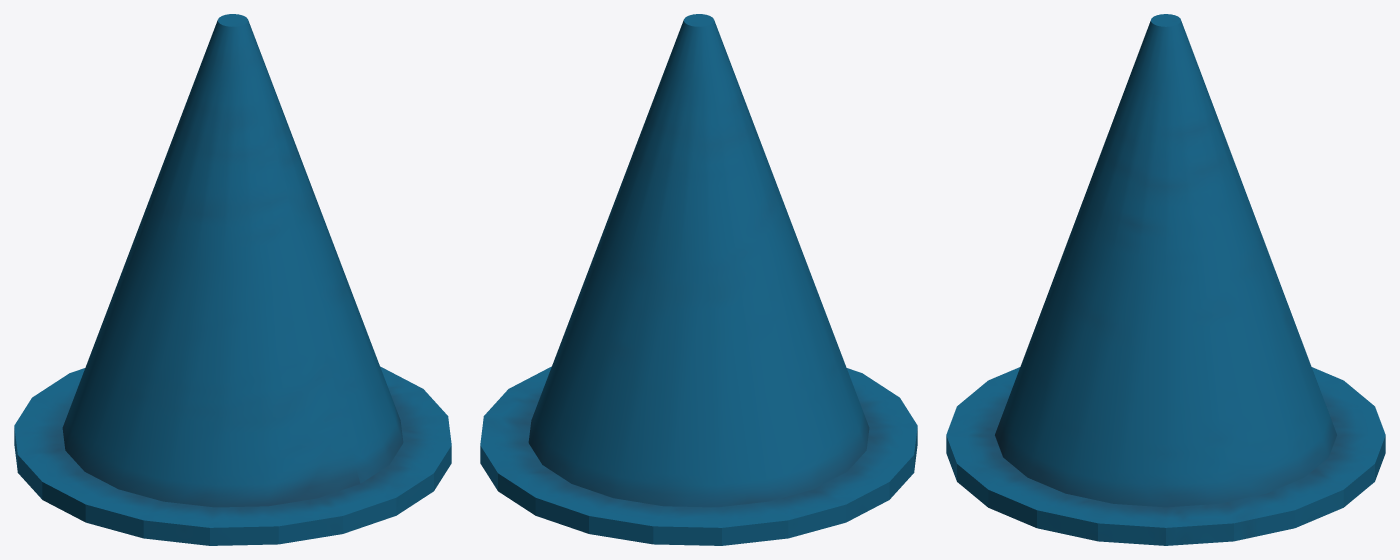
The model's file is traffic_cone.glb.
3 renders of one model, left to right at view 1: azimuth 30°, elevation 25°; view 2: azimuth 150°, elevation 25°; view 3: azimuth 270°, elevation 25°, orthographic.
Visible parts, largest first — view 1: Cone_Round; view 2: Cone_Round; view 3: Cone_Round.
Part boxes in pixels (x1,y1,x2,y2): Cone_Round: (14,14,451,545); Cone_Round: (480,14,917,545); Cone_Round: (946,14,1385,545).
Size of the model in its own units: 0.385 by 0.4183 by 0.385.
Materials: 1 (1 with a texture image).
